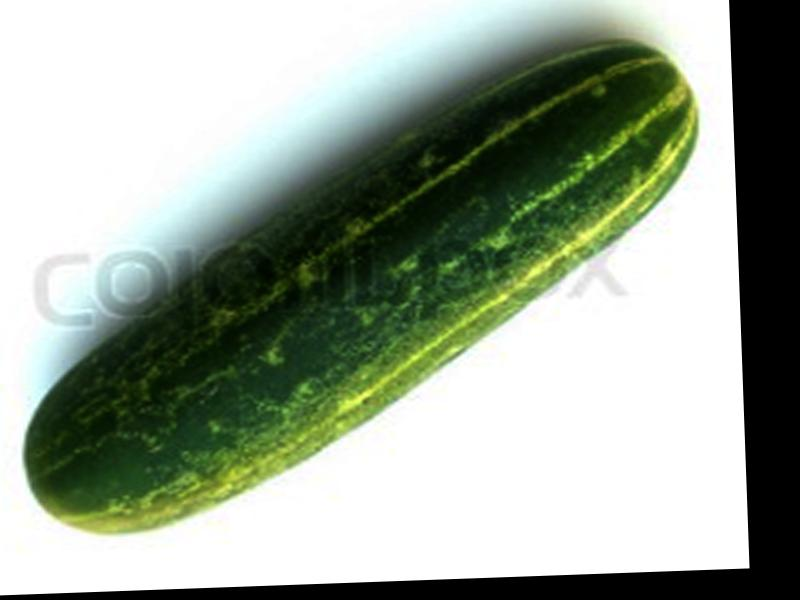Cucumber: (12, 40, 716, 540)
